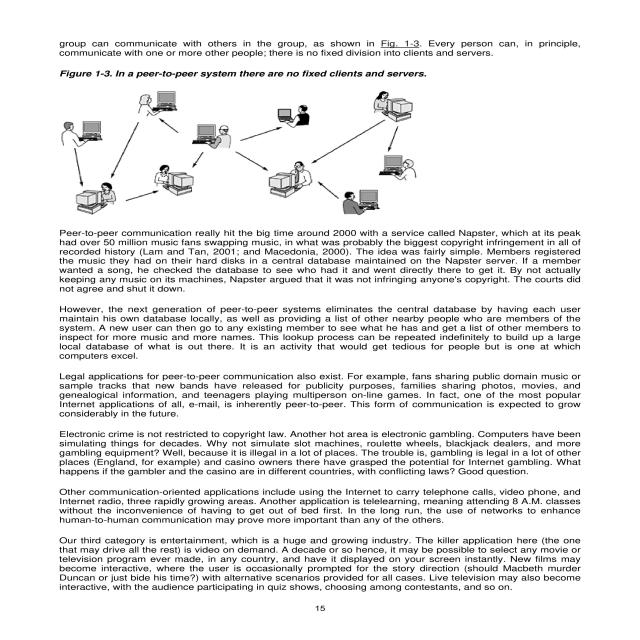diagram: (40, 62, 471, 223)
